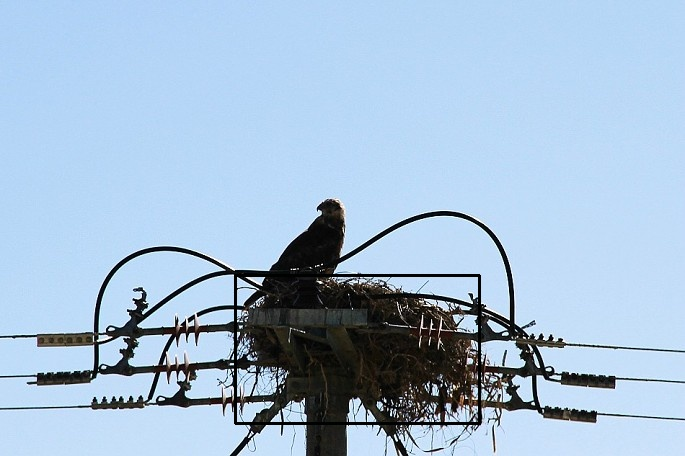bird-nest: (235, 275, 479, 423)
